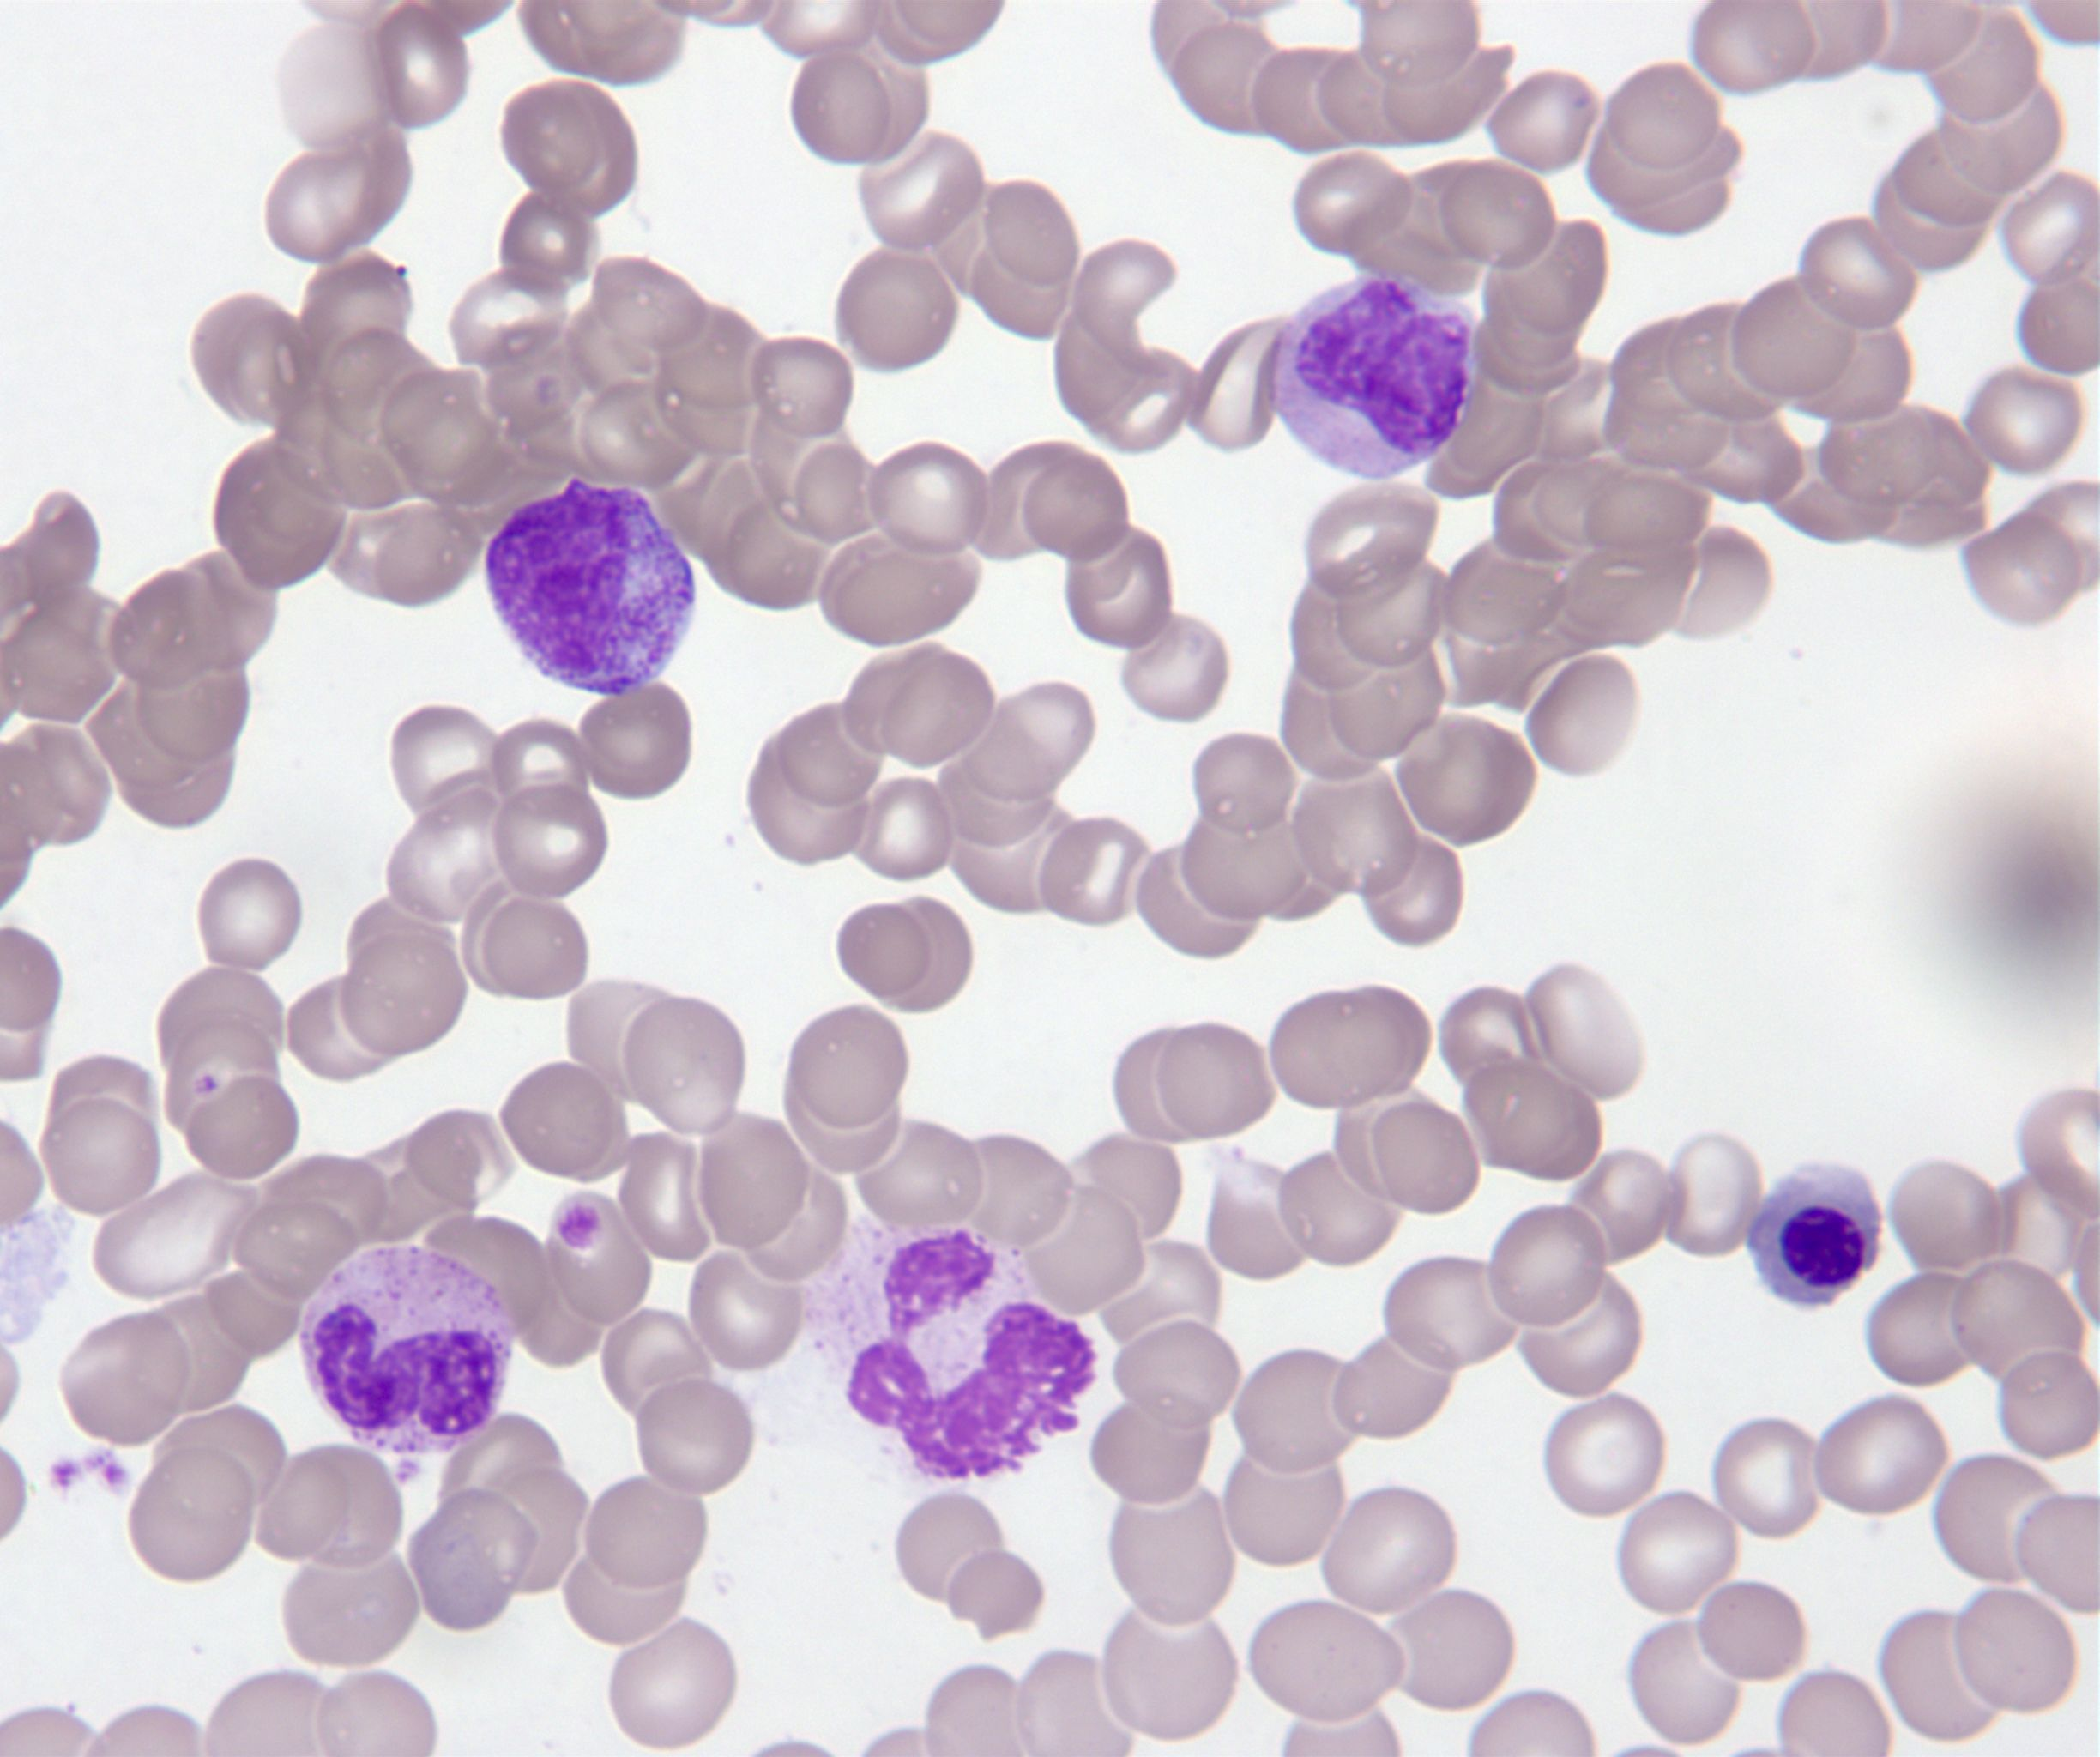24: (1741, 1159, 1891, 1319)
3: (481, 473, 699, 701)
4: (1261, 269, 1488, 489)
5: (290, 1237, 522, 1462)
x: (797, 1207, 1097, 1487)
